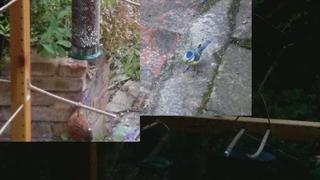blue tit: (182, 40, 212, 78)
